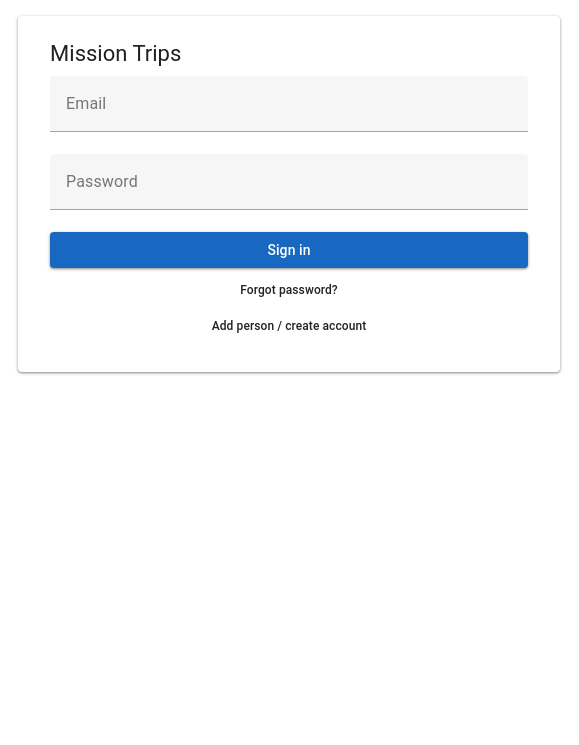
Test case: Feature 1 — Login › US-15.2 — Subdomain registration UI › Apex host still shows optional organizations
This screenshot has width=579, height=745.
Step 1. Click the button "Add person / create account" → (289, 326), box [200,312,378,340]
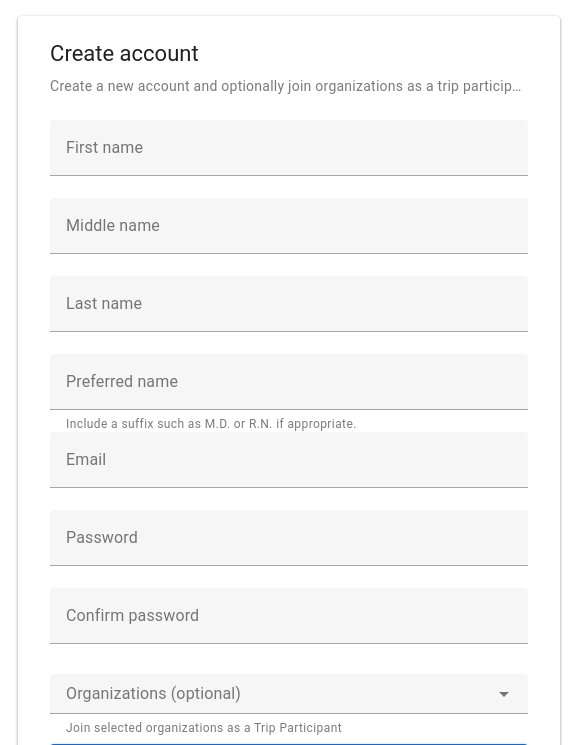
expect the text "Organizations (optional)" is shown: met, box [66,682,241,706]
